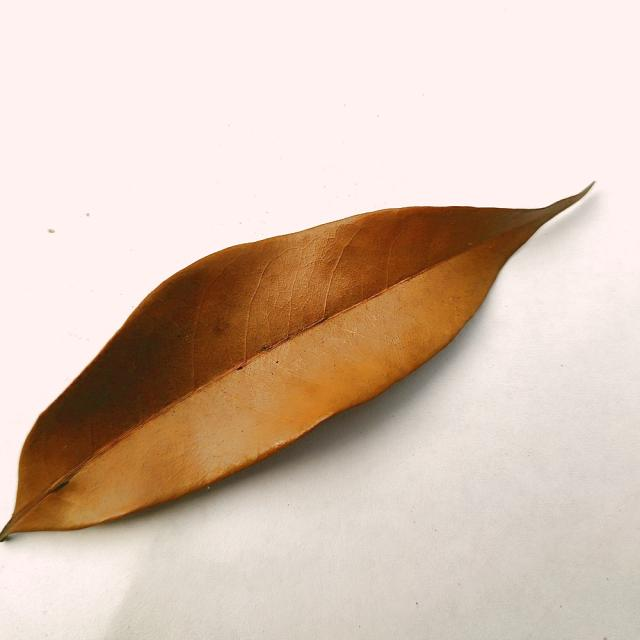Dry_Leaf-Lychee: (0, 184, 595, 541)
